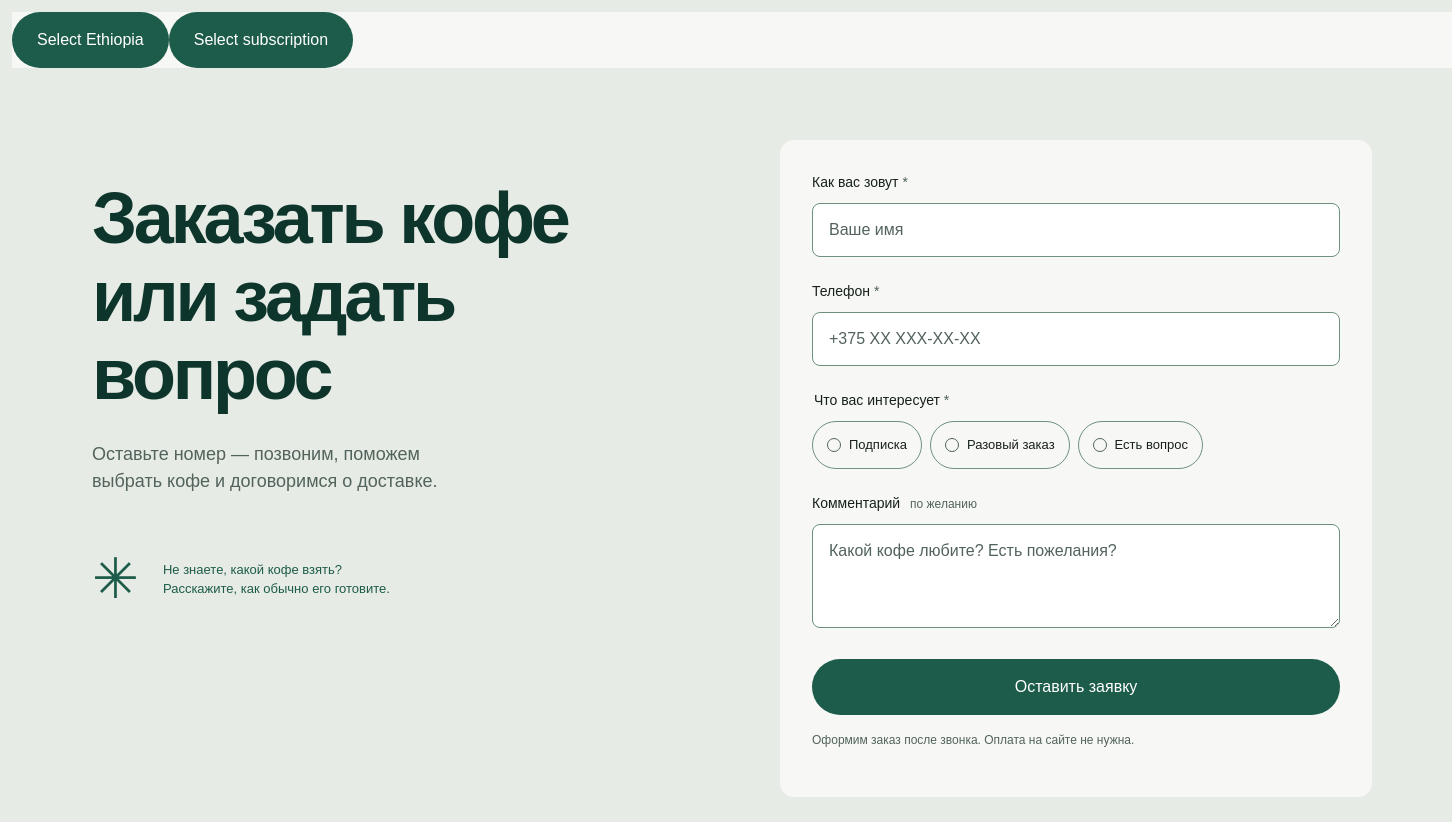
explains an invalid phone +12025550123 without waiting for blur and clears feedback after correction
This screenshot has width=1452, height=822.
In the field labelled "Телефон *": (1076, 339) [812,312,1340,366], type "+12025550123"
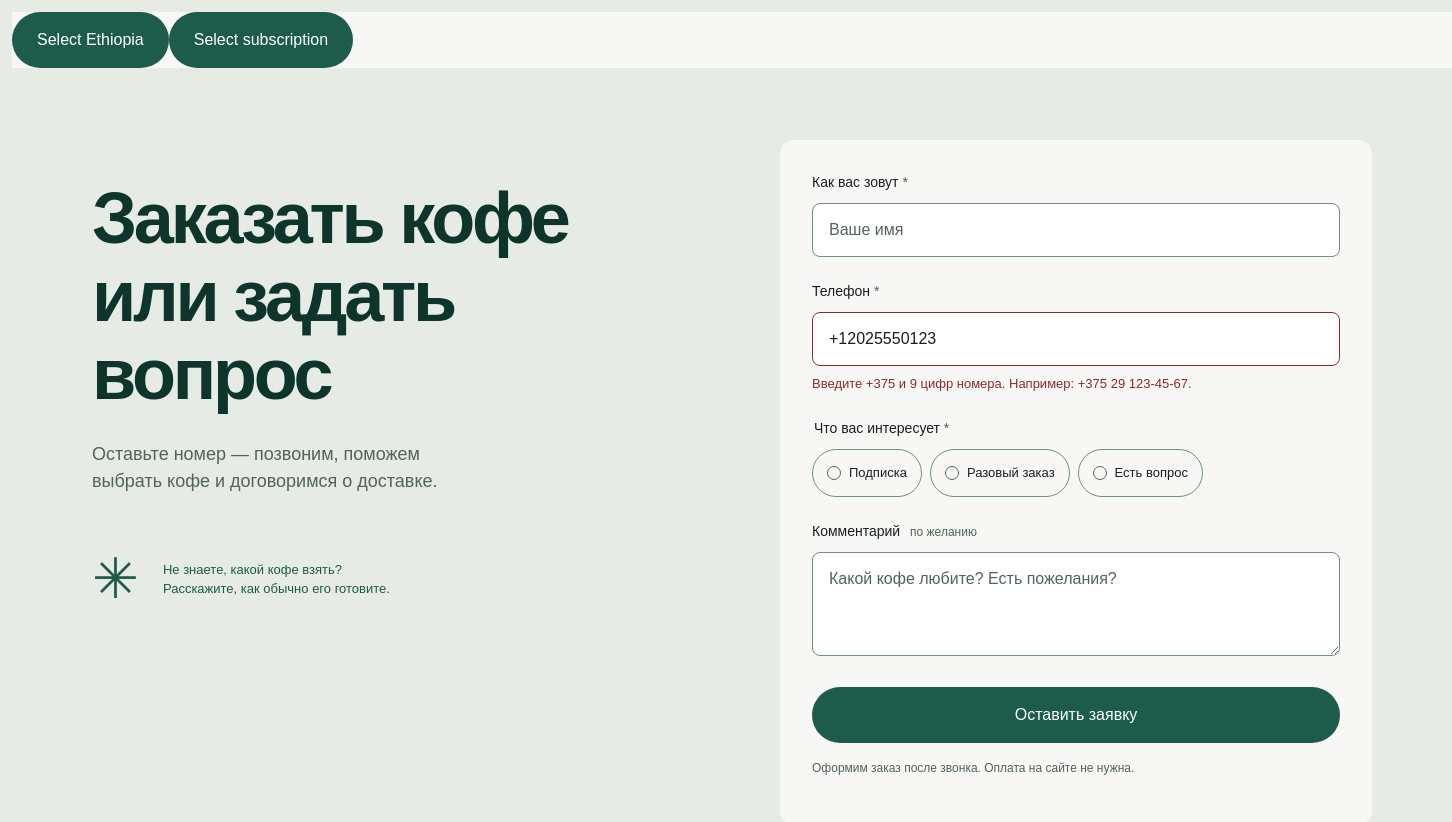
Check: the message "Введите +375 и 9 цифр номера. Например: +375 29 123-45-67." is shown, box [812,376,1192,391]
Replace the text in the field labelled "Телефон *" with "+375291234567": (1076, 339) [812,312,1340,366]
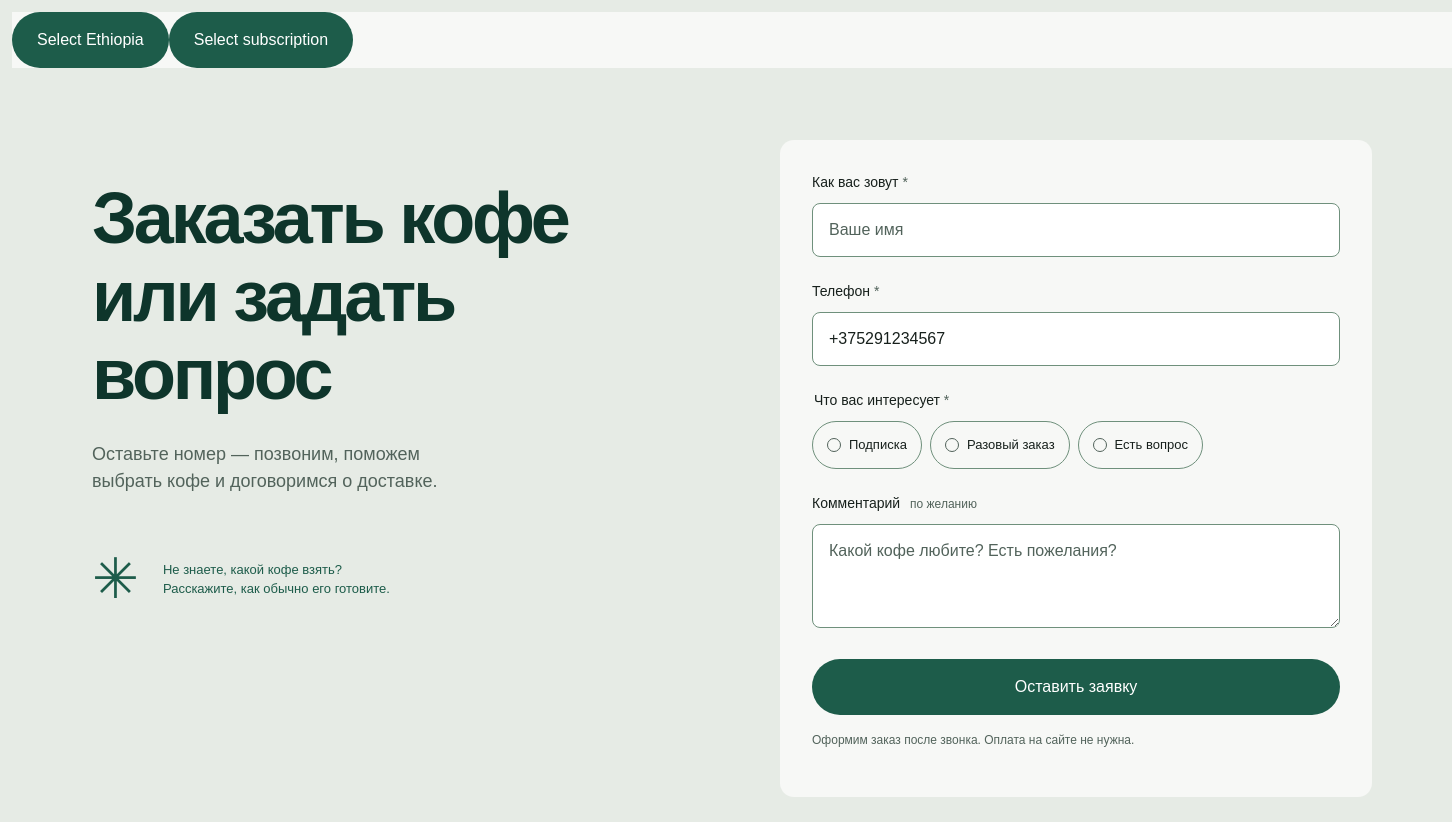
Check: the message "Введите +375 и 9 цифр номера. Например: +375 29 123-45-67." is gone
